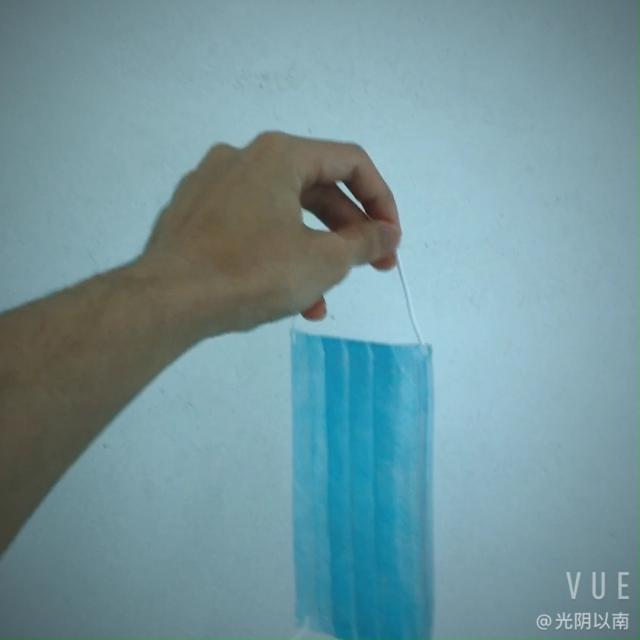non-organic waste: (295, 308, 461, 632)
